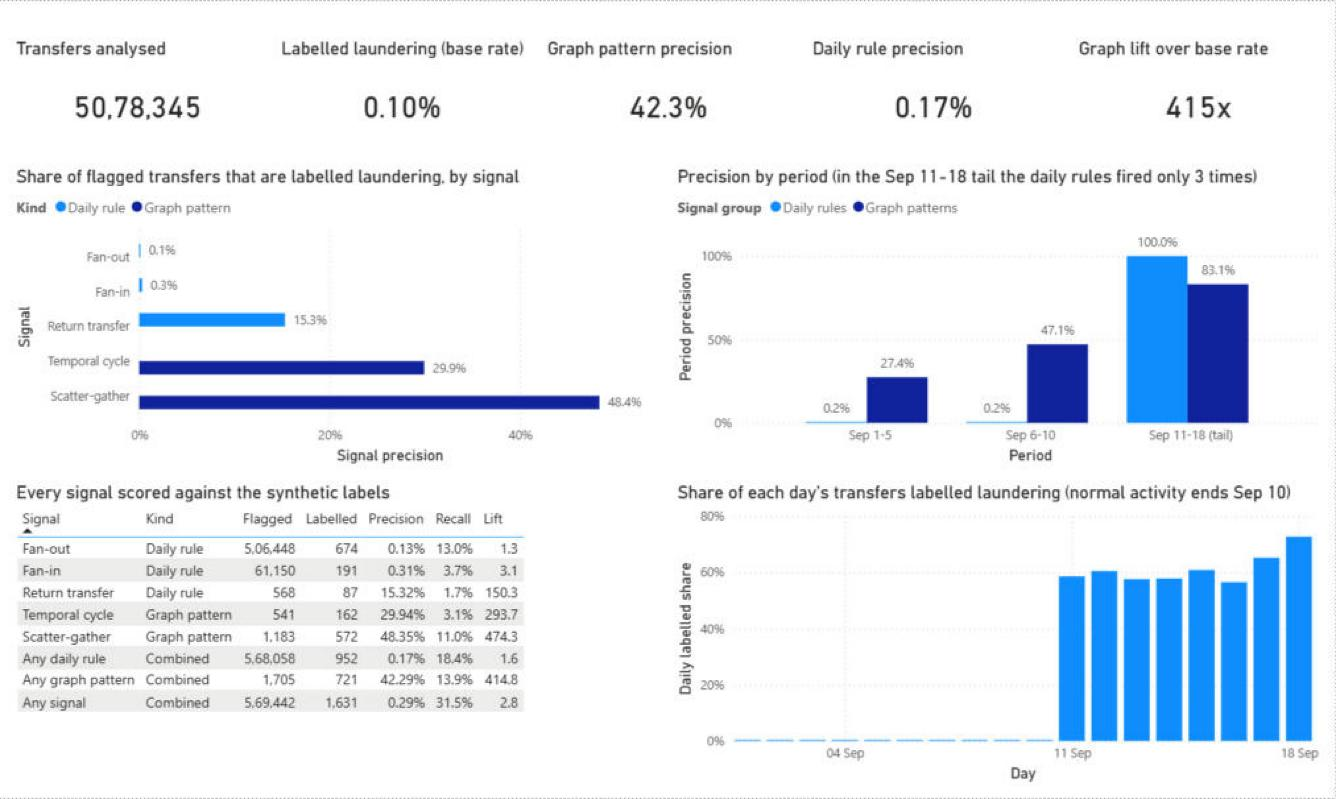

The dashboard page shown, as its layout file describes it:
{"tool":"powerbi","page":{"name":"Overview","canvas":[1280,740],"ordinal":0},"visuals":[{"type":"card","title":"Transfers analysed","fields":{"Values":["Summary.Transfers analysed"]},"box":[12,12,242,110],"z":0},{"type":"card","title":"Labelled laundering (base rate)","fields":{"Values":["Summary.Laundering base rate"]},"box":[266,12,242,110],"z":1},{"type":"card","title":"Graph pattern precision","fields":{"Values":["Summary.Graph pattern precision"]},"box":[520,12,242,110],"z":2},{"type":"card","title":"Daily rule precision","fields":{"Values":["Summary.Daily rule precision"]},"box":[774,12,242,110],"z":3},{"type":"card","title":"Graph lift over base rate","fields":{"Values":["Summary.Graph lift over base rate"]},"box":[1028,12,240,110],"z":4},{"type":"clusteredBarChart","title":"Share of flagged transfers that are labelled laundering, by signal","fields":{"Category":["Signals.Signal"],"Series":["Signals.Kind"],"Y":["Signals.Signal precision"]},"box":[12,134,620,290],"z":5},{"type":"clusteredColumnChart","title":"Precision by period (in the Sep 11-18 tail the daily rules fired only 3 times)","fields":{"Category":["Periods.Period"],"Series":["Periods.Signal group"],"Y":["Periods.Period precision"]},"box":[644,134,624,290],"z":6},{"type":"tableEx","title":"Every signal scored against the synthetic labels","fields":{"Values":["Signals.Signal","Signals.Kind","Signals.Flagged","Signals.Labelled","Signals.Precision","Signals.Recall","Signals.Lift"]},"box":[12,436,620,292],"z":7},{"type":"clusteredColumnChart","title":"Share of each day's transfers labelled laundering (normal activity ends Sep 10)","fields":{"Category":["Days.Day"],"Y":["Days.Daily labelled share"]},"box":[644,436,624,292],"z":8}]}

Visuals, with their boxes on the page's 1280x740 design canvas (x1, y1, x2, y2). These are canvas units, not pixel positions in the 1336x799 screenshot, which may show the page scaled, cropped or inside an application window:
"Transfers analysed" card: x1=12, y1=12, x2=254, y2=122
"Labelled laundering (base rate)" card: x1=266, y1=12, x2=508, y2=122
"Graph pattern precision" card: x1=520, y1=12, x2=762, y2=122
"Daily rule precision" card: x1=774, y1=12, x2=1016, y2=122
"Graph lift over base rate" card: x1=1028, y1=12, x2=1268, y2=122
"Share of flagged transfers that are labelled laundering, by signal" clusteredBarChart: x1=12, y1=134, x2=632, y2=424
"Precision by period (in the Sep 11-18 tail the daily rules fired only 3 times)" clusteredColumnChart: x1=644, y1=134, x2=1268, y2=424
"Every signal scored against the synthetic labels" tableEx: x1=12, y1=436, x2=632, y2=728
"Share of each day's transfers labelled laundering (normal activity ends Sep 10)" clusteredColumnChart: x1=644, y1=436, x2=1268, y2=728
